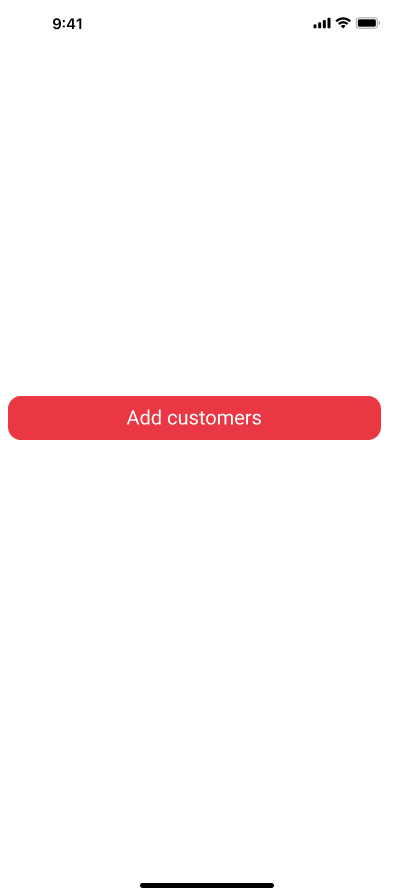Buttons: (8, 396, 381, 440)
Home Indicator: (0, 862, 414, 896)
Status Bar: (0, 0, 414, 44)
